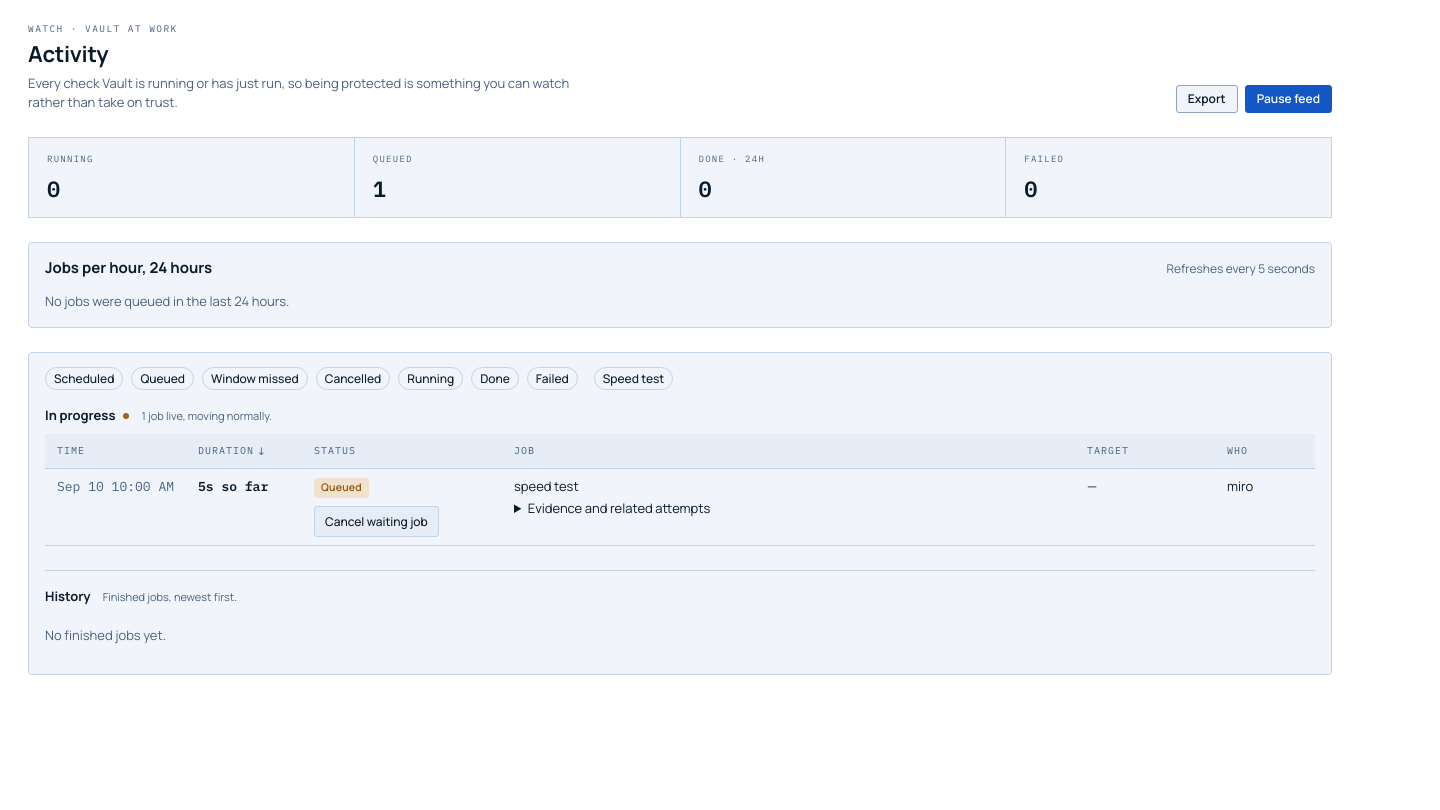
Test: Jobs / Activity page › Pause feed stops the poll and flips to Resume feed
The width and height of the screenshot is (1440, 810).
Check: the text "speed test" is shown, box [514,477,579,495]
Click the button "Pause feed".
click(1288, 98)  # box [1245,84,1332,112]
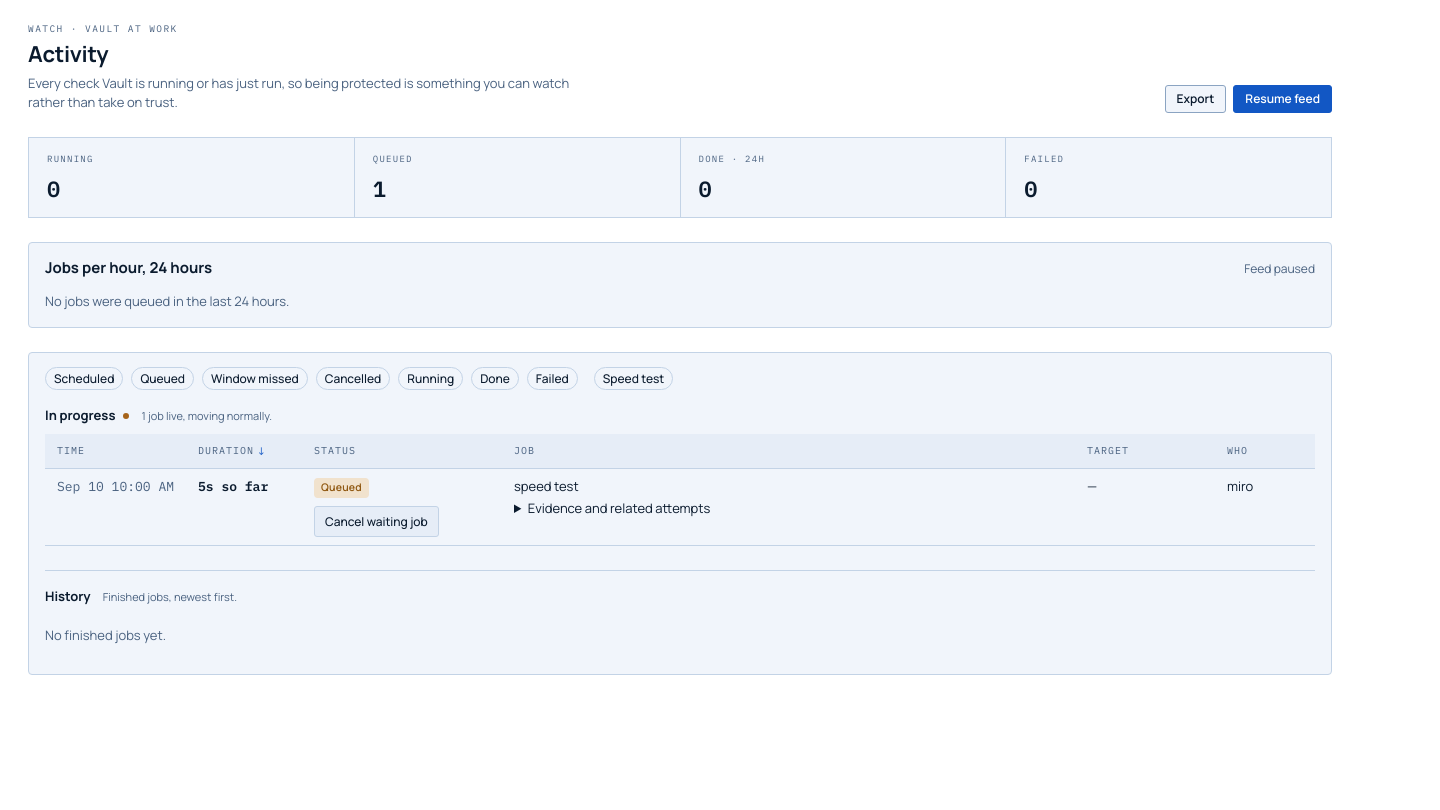
Check: the button "Resume feed" is shown, box [1233,84,1332,112]
Check: the text "Feed paused" is shown, box [1244,260,1315,278]
